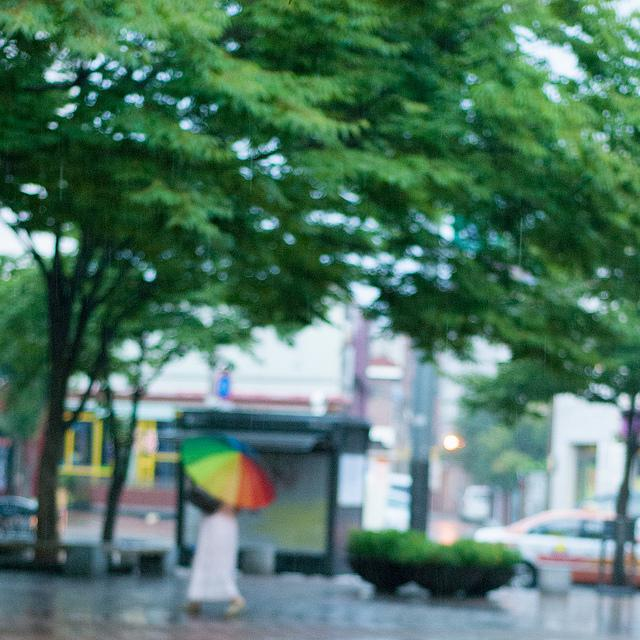hand: (175, 476, 197, 494)
